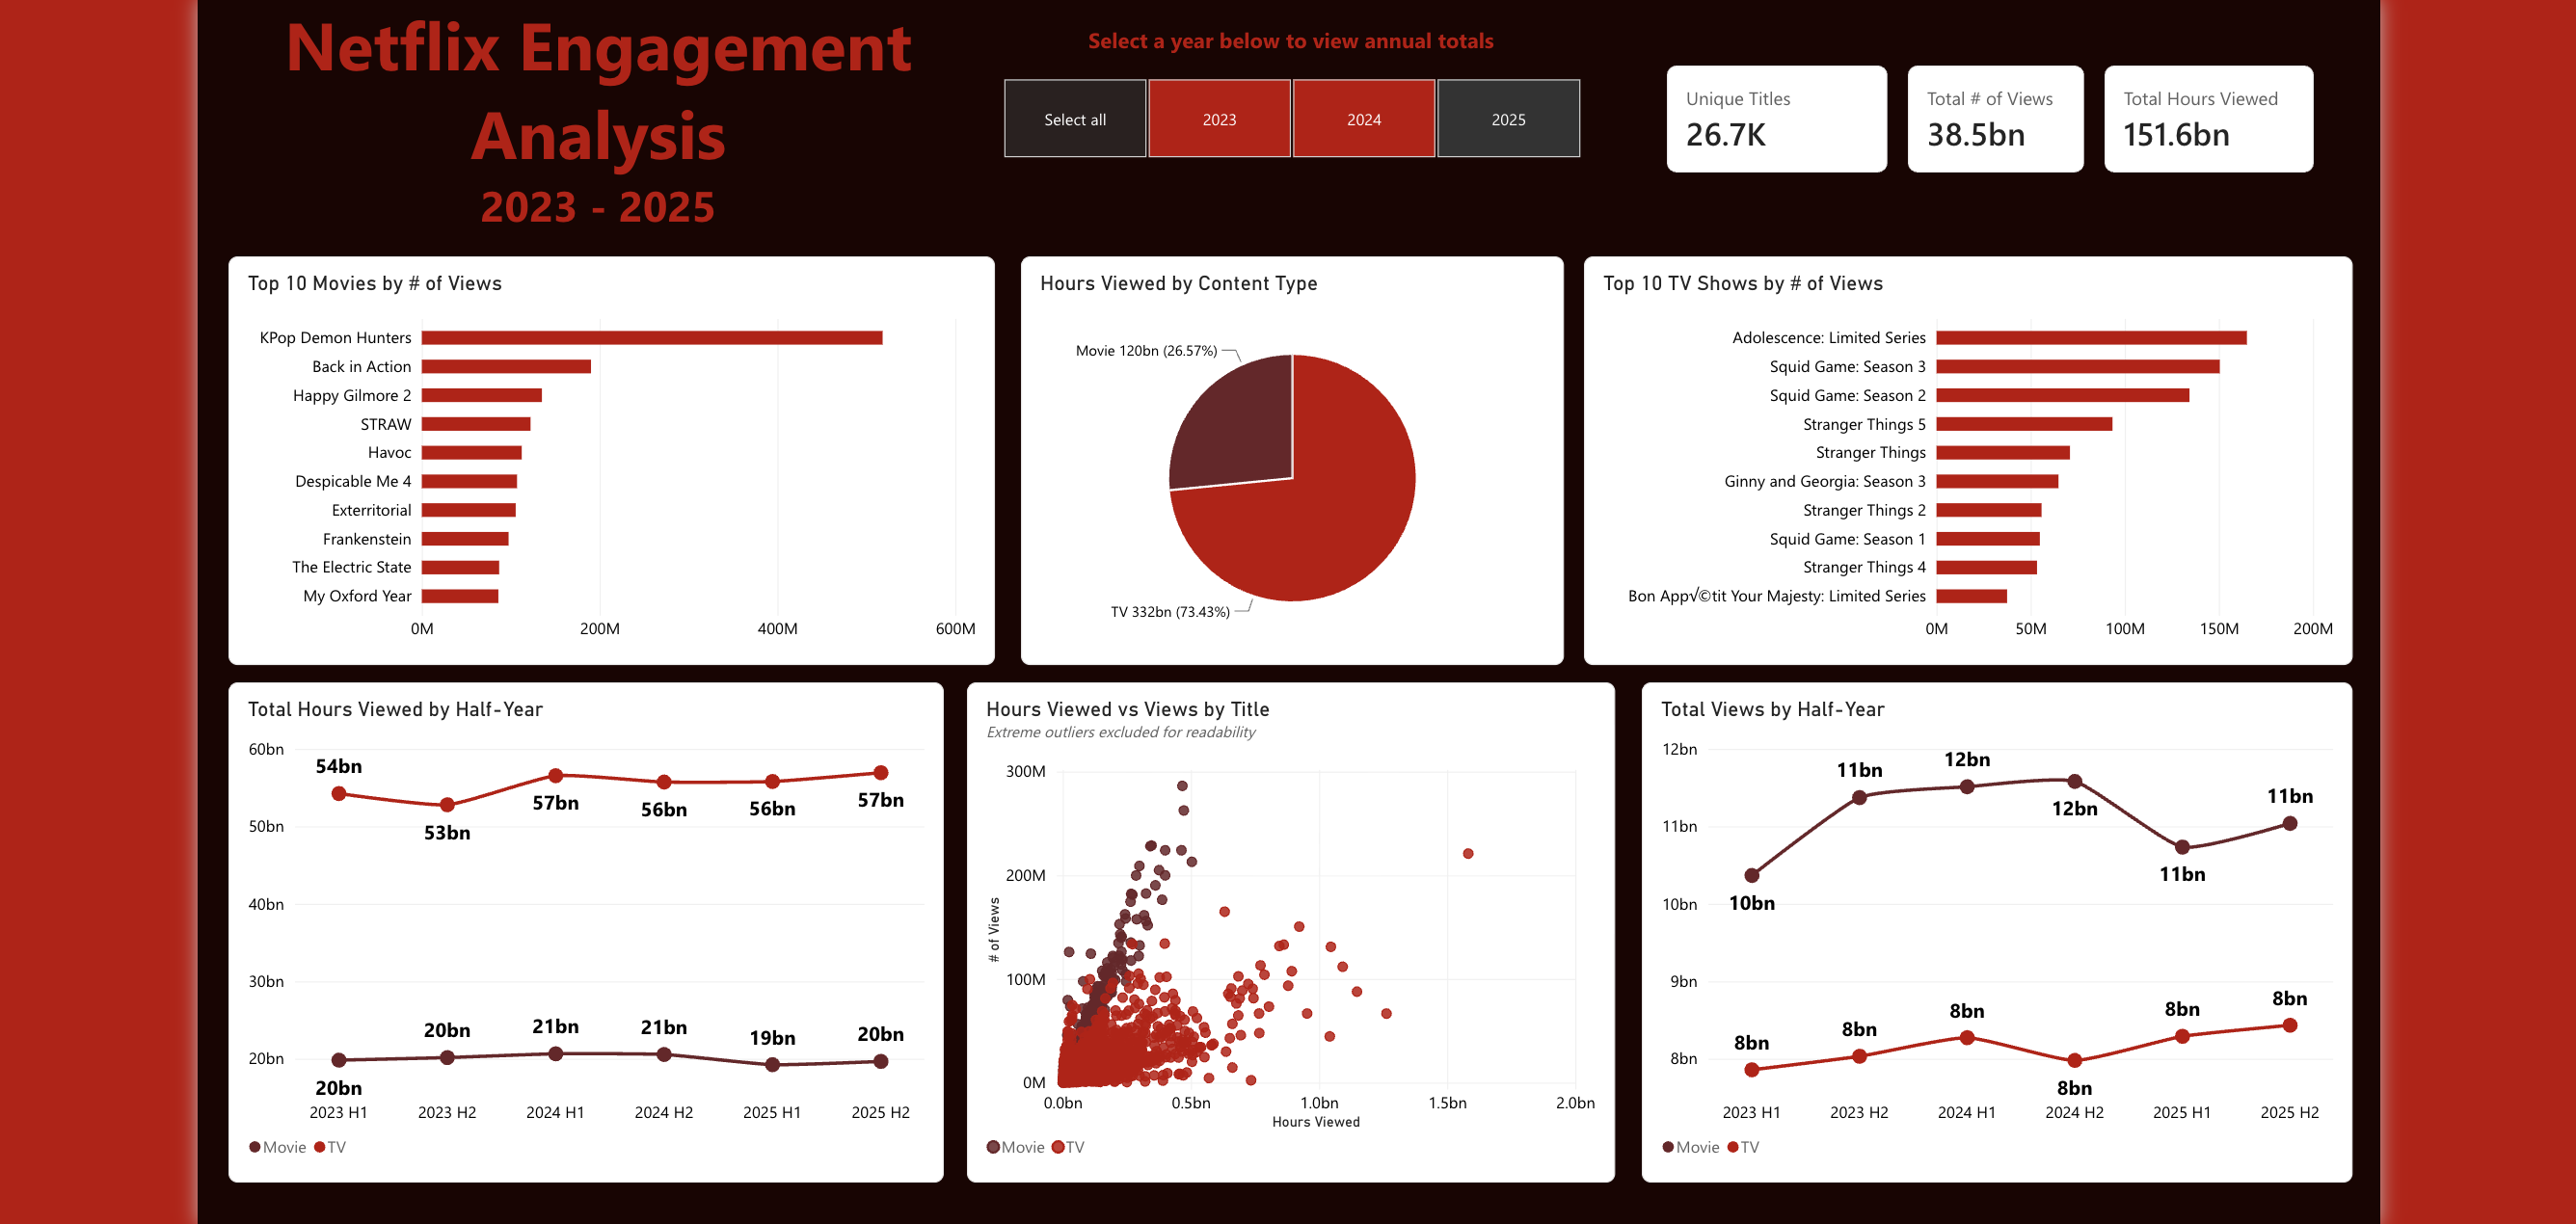

The page's visual inventory and layout, read from the dashboard file:
{"tool":"powerbi","page":{"name":"Engagement Dashboard","canvas":[1920,1080],"ordinal":1},"visuals":[{"type":"clusteredBarChart","title":"Top 10 Movies by # of Views","fields":{"Category":["Engagement.Title Name"],"Y":["Sum(Engagement.Views)"]},"box":[27.5,228,674.1,359.6],"z":0},{"type":"slicer","fields":{"Values":["Engagement.Year"]},"box":[687.8,68.8,546.3,72.7],"z":1000},{"type":"clusteredBarChart","title":"Top 10 TV Shows by # of Views","fields":{"Category":["Engagement.Title Name"],"Y":["Sum(Engagement.Views)"]},"box":[1218.4,228,676,359.6],"z":2000},{"type":"lineChart","title":"Total Hours Viewed by Half-Year","fields":{"Category":["Engagement.Period"],"Series":["Engagement.Type"],"Y":["Sum(Engagement.HoursViewed)"]},"box":[27.5,601.4,628.9,440.2],"z":3000},{"type":"pieChart","title":"Hours Viewed by Content Type","fields":{"Category":["Engagement.Type"],"Y":["Sum(Engagement.HoursViewed)"]},"box":[723.2,228,477.5,359.6],"z":4000},{"type":"scatterChart","title":"Hours Viewed vs Views by Title","fields":{"Category":["Engagement.Title Name"],"Series":["Engagement.Type"],"X":["Sum(Engagement.HoursViewed)"],"Y":["Sum(Engagement.Views)"]},"box":[676,601.4,569.9,440.2],"z":5000},{"type":"cardVisual","fields":{"Data":["Sum(Engagement.HoursViewed)"]},"box":[1676.3,59,184.7,94.3],"z":6000},{"type":"cardVisual","fields":{"Data":["Sum(Engagement.Views)"]},"box":[1503.4,59,155.3,94.3],"z":7000},{"type":"textbox","box":[27.5,0,650.5,210.3],"z":8000},{"type":"lineChart","title":"Total Views by Half-Year","fields":{"Category":["Engagement.Period"],"Series":["Engagement.Type"],"Y":["Sum(Engagement.Views)"]},"box":[1269.5,601.4,624.9,440.2],"z":9000},{"type":"cardVisual","fields":{"Data":["Count(Engagement.Title ID)"]},"box":[1291.1,59,194.6,94.3],"z":10000},{"type":"textbox","box":[768.4,23.6,387.1,35.4],"z":11000}]}

Visuals, with their boxes in screenshot pixels (x1, y1, x2, y2):
"Top 10 Movies by # of Views" clusteredBarChart: [213, 245, 997, 662]
slicer - Engagement.Year: [980, 60, 1616, 145]
"Top 10 TV Shows by # of Views" clusteredBarChart: [1597, 245, 2383, 662]
"Total Hours Viewed by Half-Year" lineChart: [213, 679, 944, 1190]
"Hours Viewed by Content Type" pieChart: [1022, 245, 1576, 662]
"Hours Viewed vs Views by Title" scatterChart: [967, 679, 1629, 1190]
cardVisual - Sum(Engagement.HoursViewed): [2130, 48, 2344, 158]
cardVisual - Sum(Engagement.Views): [1928, 48, 2108, 158]
textbox: [213, 0, 969, 225]
"Total Views by Half-Year" lineChart: [1656, 679, 2383, 1190]
cardVisual - Count(Engagement.Title ID): [1681, 48, 1908, 158]
textbox: [1074, 8, 1524, 48]
